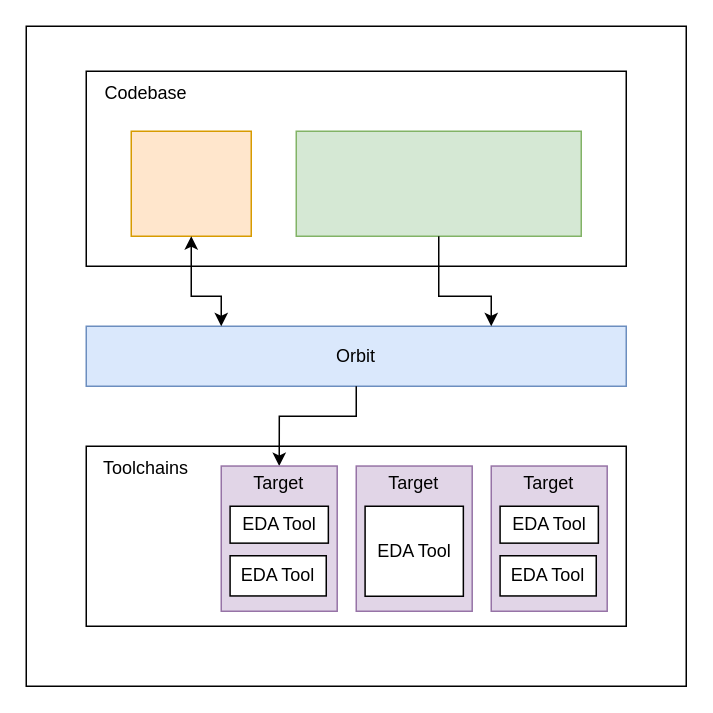
This 713x713 diagram has some shape labels left out. The shapes that lost their labels are listed below. From the top down, each one's centre as x and y in pixels, then its label:
At pixel 190 183: "Local Project".
At pixel 438 183: "Existing IP".
